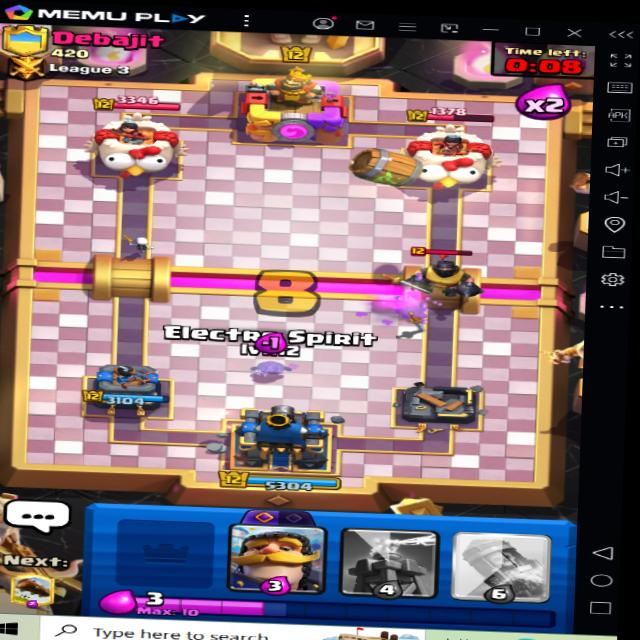Megaknight: (396, 234, 480, 308)
